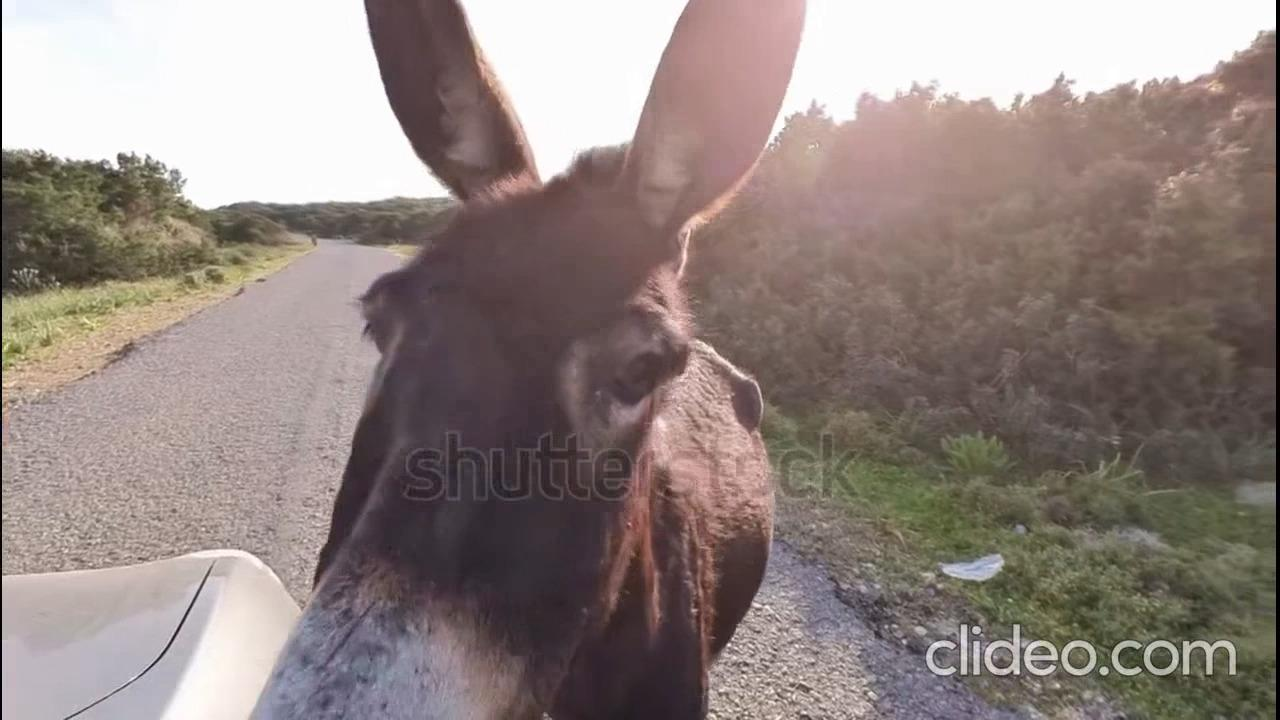Donkey: (221, 2, 778, 718)
